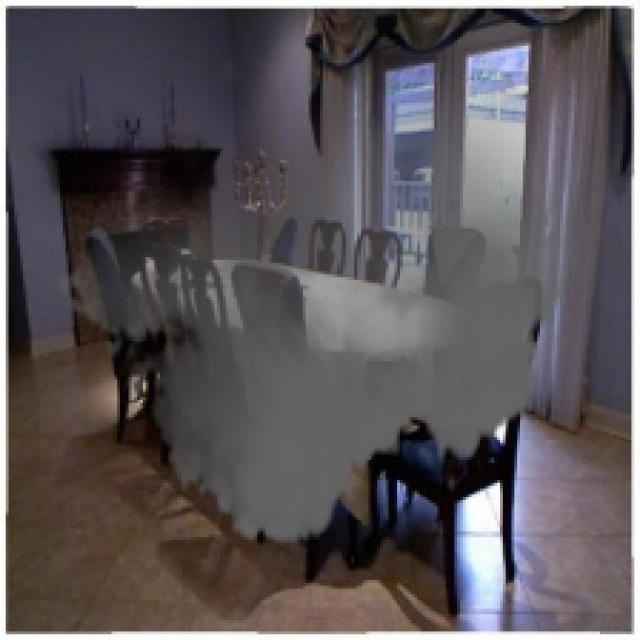smoke: (54, 34, 580, 563)
